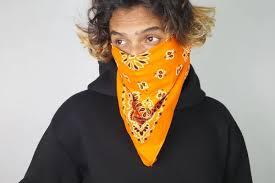scarf-kerchief: (110, 33, 191, 171)
